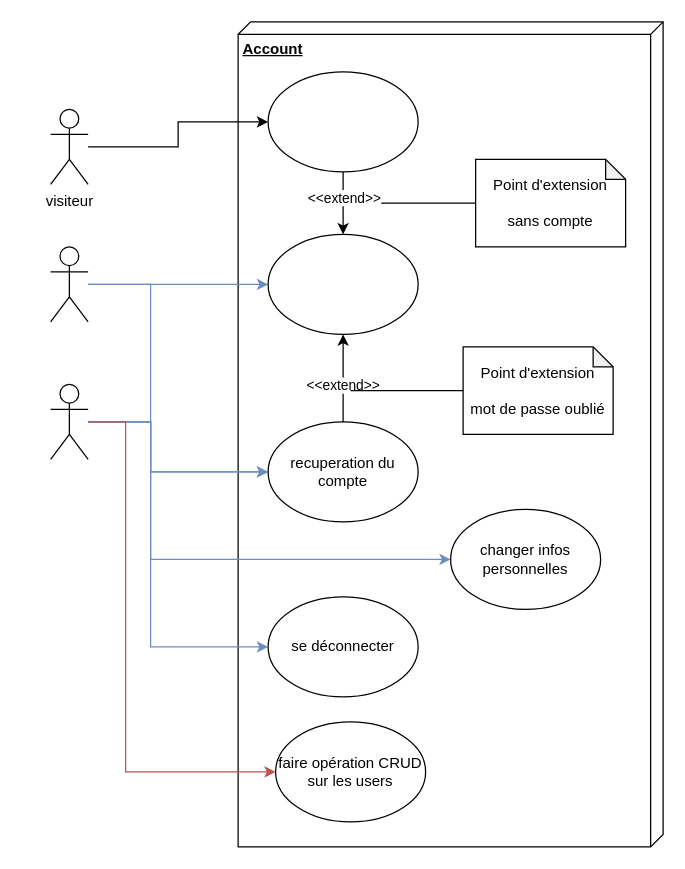
This 685x869 diagram has some shape labels left out. The centre of each missing label's shape, as x and y in pixels:
"administrateur" belongs at (68,421).
"connection" belongs at (342,283).
"inscription" belongs at (342,121).
"utilisateur" belongs at (68,284).
